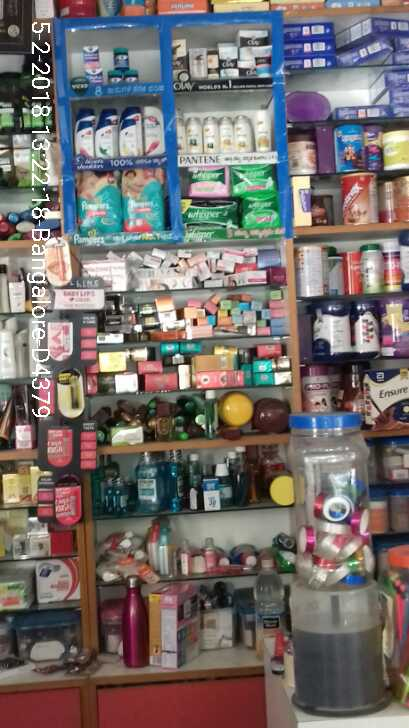vicks: (81, 44, 140, 84)
